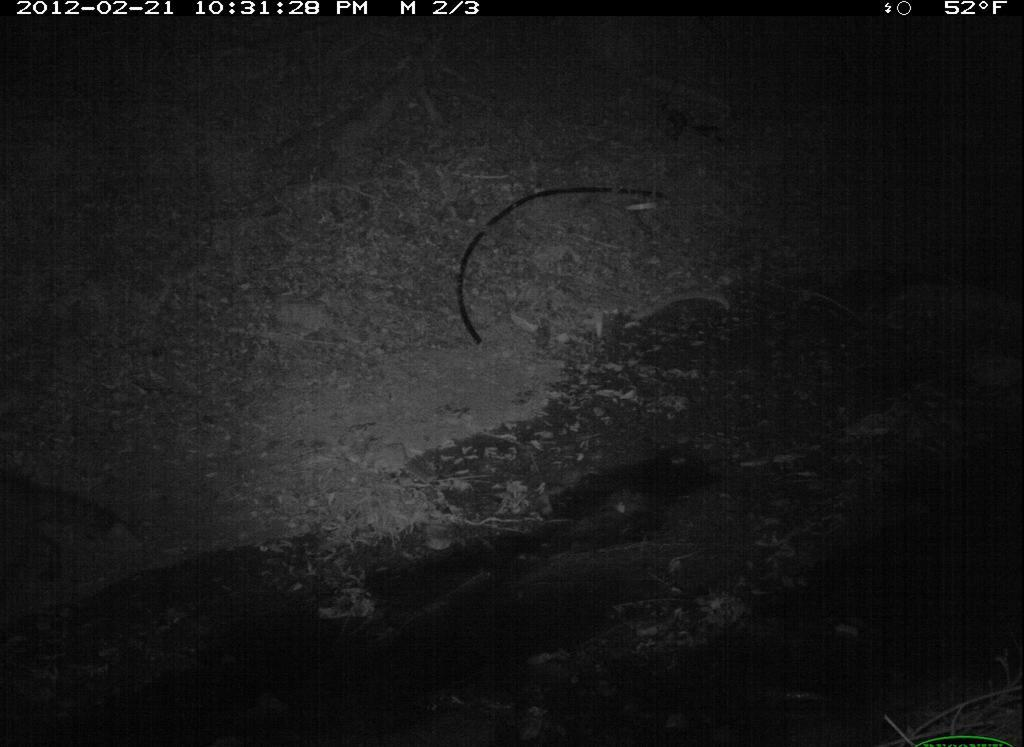raccoon: (2, 446, 121, 611)
